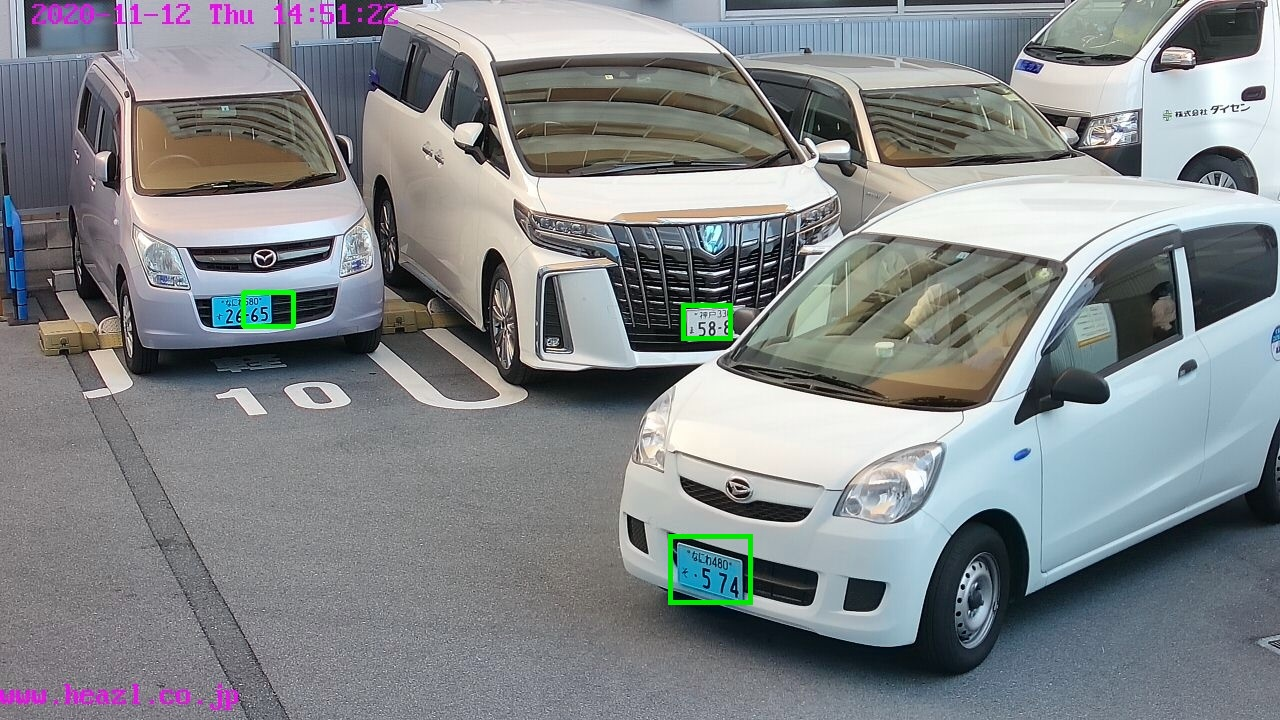number_plate: (676, 538, 741, 604), (209, 295, 277, 323), (683, 308, 739, 338)
